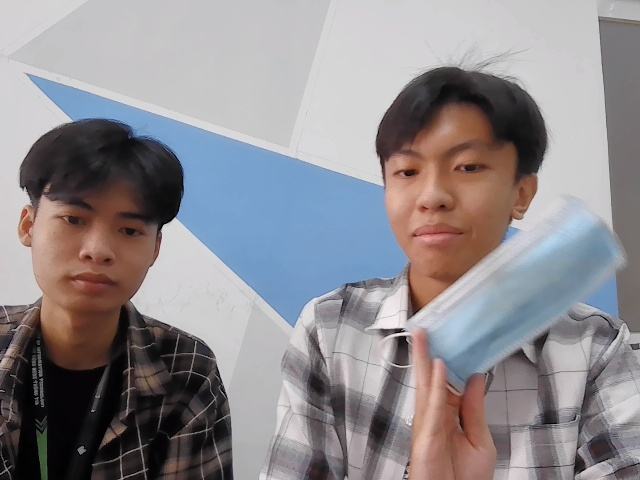human: (363, 48, 550, 269), (20, 119, 190, 319)
mask: (419, 198, 622, 392)
